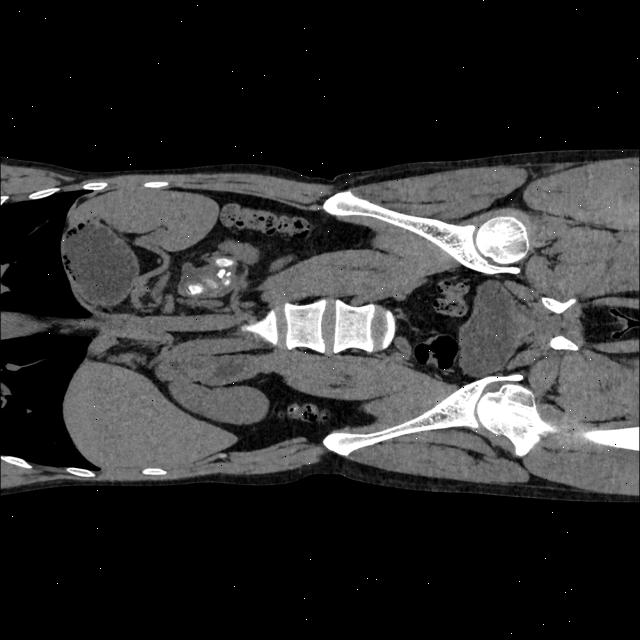kidneystone: (216, 256, 234, 266), (216, 268, 231, 278), (188, 284, 202, 294)
